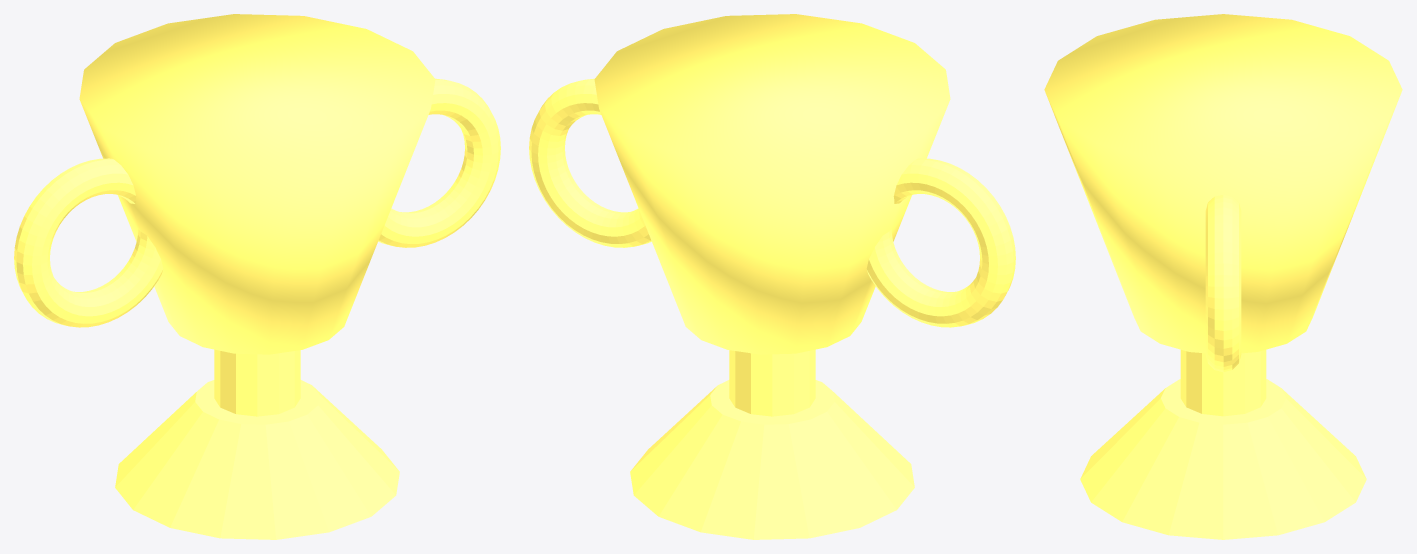
Rendered from item_cup.glb.
3 views of the same model, side by side, from view 1: azimuth 30°, elevation 25°; view 2: azimuth 150°, elevation 25°; view 3: azimuth 270°, elevation 25° (orthographic).
Visible parts, largest first — view 1: CupBowl, CupFoot, CupHandle_-0.21, CupHandle_0.21, CupStem; view 2: CupBowl, CupFoot, CupHandle_-0.21, CupHandle_0.21, CupStem; view 3: CupBowl, CupFoot, CupHandle_0.21, CupStem.
Boxes of the visible parts, x1=… form: CupBowl: x1=79, y1=14, x2=435, y2=354; CupFoot: x1=115, y1=380, x2=399, y2=539; CupHandle_-0.21: x1=14, y1=158, x2=163, y2=327; CupHandle_0.21: x1=378, y1=78, x2=500, y2=247; CupStem: x1=214, y1=349, x2=300, y2=416; CupBowl: x1=594, y1=14, x2=950, y2=354; CupFoot: x1=630, y1=380, x2=914, y2=539; CupHandle_-0.21: x1=866, y1=158, x2=1015, y2=327; CupHandle_0.21: x1=529, y1=78, x2=651, y2=247; CupStem: x1=729, y1=349, x2=815, y2=416; CupBowl: x1=1044, y1=14, x2=1402, y2=353; CupFoot: x1=1080, y1=379, x2=1366, y2=539; CupHandle_0.21: x1=1205, y1=194, x2=1241, y2=372; CupStem: x1=1180, y1=350, x2=1266, y2=416.
Size of the model in its own units: 0.6458 by 0.5 by 0.4167.
